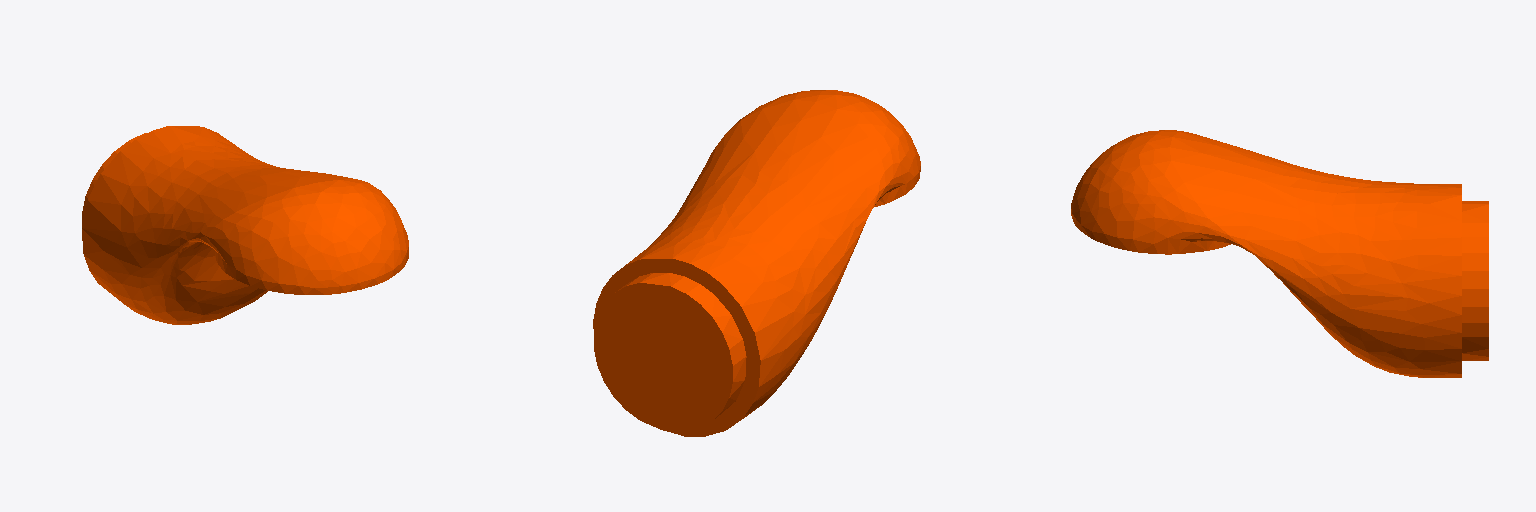
The model's file is kuka5.obj.
3 renders of one model, left to right at view 1: azimuth 30°, elevation 25°; view 2: azimuth 150°, elevation 25°; view 3: azimuth 270°, elevation 25°, orthographic.
Visible parts, largest first — view 1: unnamed_object1; view 2: unnamed_object1; view 3: unnamed_object1.
Part boxes in pixels (x1,y1,x2,y2): unnamed_object1: (82, 126, 408, 324); unnamed_object1: (593, 90, 920, 436); unnamed_object1: (1071, 130, 1488, 377).
Size of the model in its own units: 0.1205 by 0.154 by 0.2587.